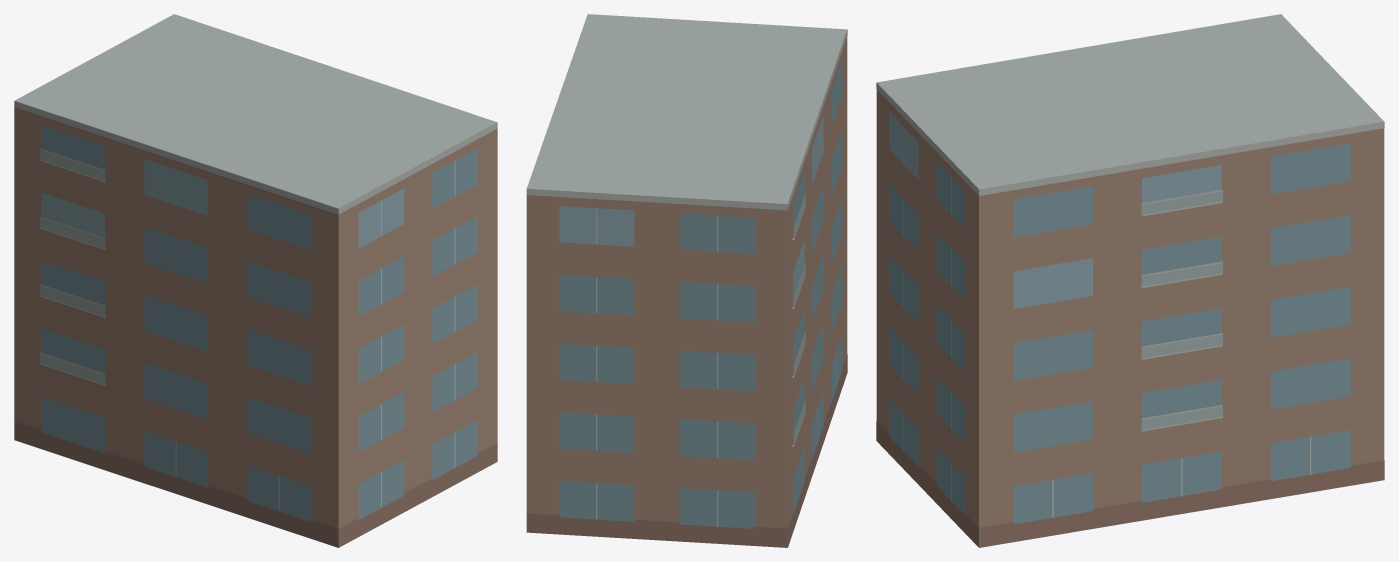
Rendered from survey-upis-32839871.glb.
3 renders of one model, left to right at view 1: azimuth 30°, elevation 25°; view 2: azimuth 150°, elevation 25°; view 3: azimuth 270°, elevation 25°, orthographic. The views are drawn at different scales.
Parts seen in each view (by area): view 1: survey-upis-32839871.tmp; view 2: survey-upis-32839871.tmp; view 3: survey-upis-32839871.tmp.
Boxes of the visible parts, bbox=[...] form: survey-upis-32839871.tmp: bbox=[14, 14, 497, 547]; survey-upis-32839871.tmp: bbox=[526, 14, 847, 547]; survey-upis-32839871.tmp: bbox=[876, 14, 1384, 547].
Bounding box in the file's own units: 14.19 × 13.5 × 17.35.
